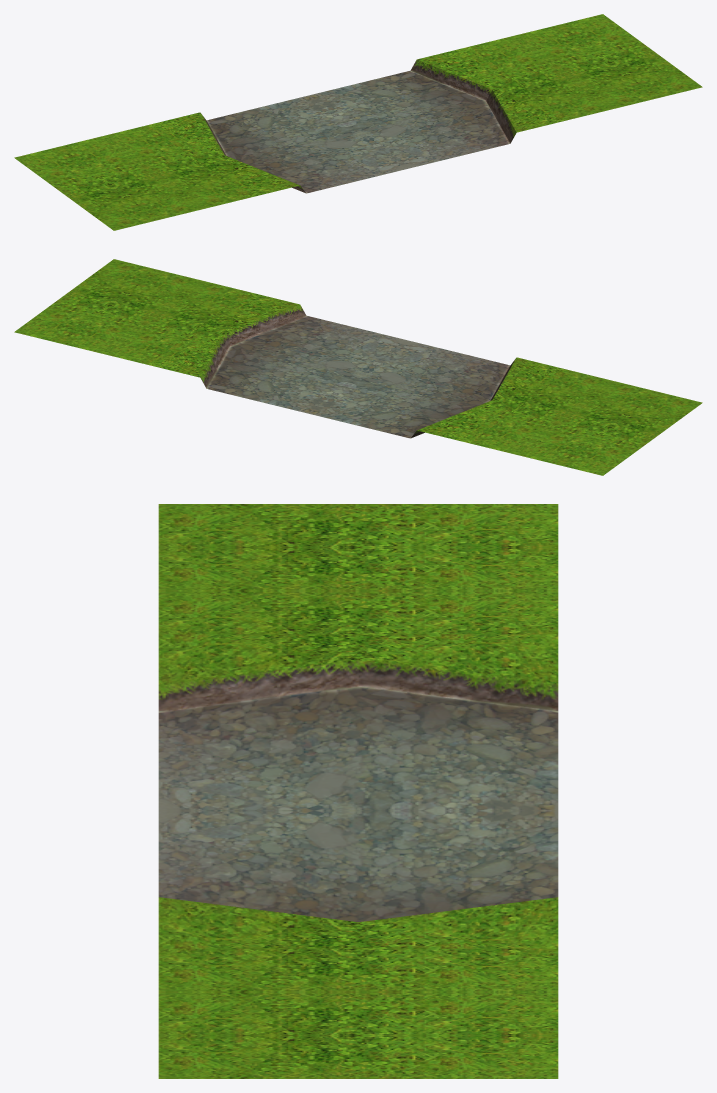
The model's file is FB_ZhuLinXiaoXi_Dibiao.FBX.
The picture shows the model from 3 angles, top to bottom: view 1: azimuth 30°, elevation 25°; view 2: azimuth 150°, elevation 25°; view 3: azimuth 270°, elevation 25°; orthographic projection. The views are drawn at different scales.
Parts seen in each view (by area): view 1: Plane03; view 2: Plane03; view 3: Plane03.
Part boxes in pixels (left/top/right/bottom): Plane03: left=14, top=14, right=702, bottom=230; Plane03: left=14, top=259, right=702, bottom=475; Plane03: left=158, top=504, right=558, bottom=1078.
Size of the model in its own units: 34.01 by 0.5301 by 10.
